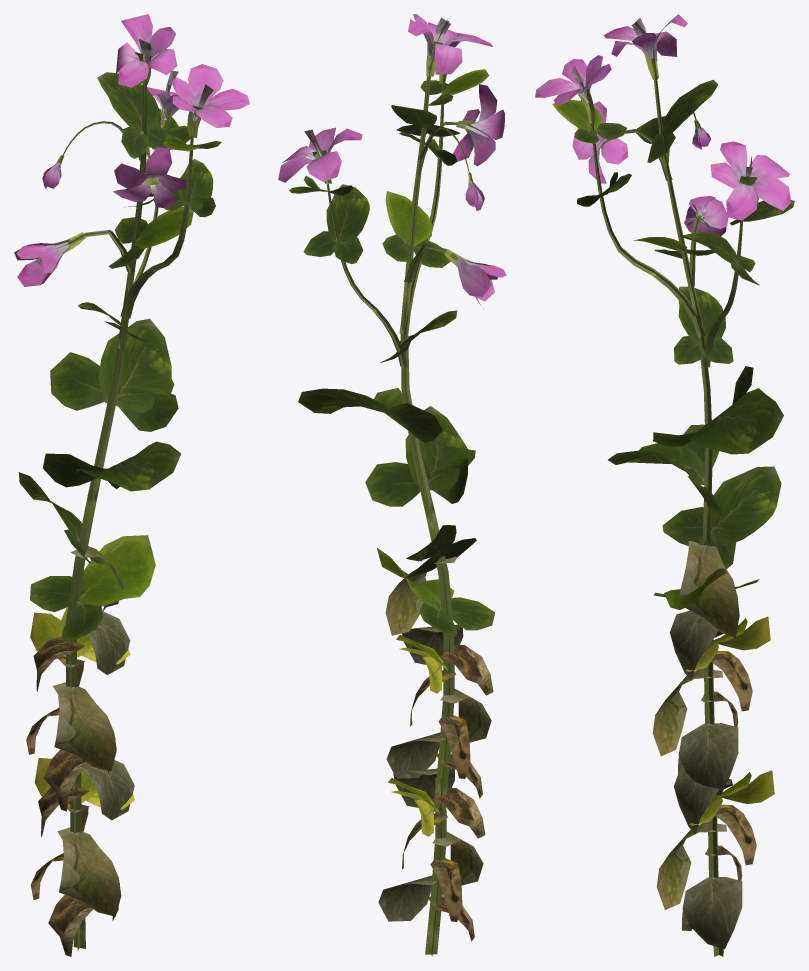
Rendered from Periwinkle_bush_short_pink.glb.
The picture shows the model from 3 angles, left to right: view 1: azimuth 30°, elevation 25°; view 2: azimuth 150°, elevation 25°; view 3: azimuth 270°, elevation 25°; orthographic projection. The views are drawn at different scales.
Parts seen in each view (by area): view 1: _419c_Var3_LOD1.2; view 2: _419c_Var3_LOD1.2; view 3: _419c_Var3_LOD1.2.
Part boxes in pixels (x1,y1,x2,y2): _419c_Var3_LOD1.2: [14, 14, 249, 956]; _419c_Var3_LOD1.2: [278, 14, 506, 956]; _419c_Var3_LOD1.2: [535, 14, 794, 956].
Bounding box in the file's own units: 0.6129 × 2.59 × 0.6394.
1 material, 1 textured.
